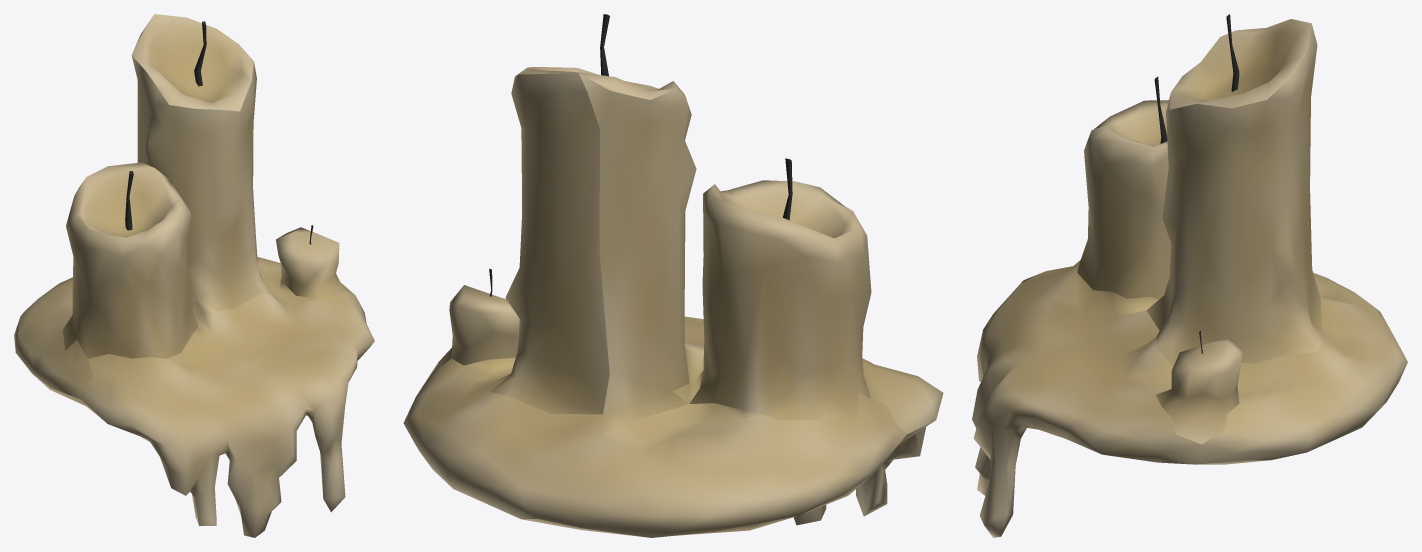
Rendered from SM_Candle_00.fbx.
3 views of the same model, side by side, from view 1: azimuth 30°, elevation 25°; view 2: azimuth 150°, elevation 25°; view 3: azimuth 270°, elevation 25° (orthographic). The views are drawn at different scales.
Visible parts, largest first — view 1: SM_Candle_01; view 2: SM_Candle_01; view 3: SM_Candle_01.
Boxes of the visible parts, bbox=[...] form: SM_Candle_01: bbox=[14, 14, 374, 537]; SM_Candle_01: bbox=[403, 14, 943, 537]; SM_Candle_01: bbox=[972, 14, 1407, 537].
Bounding box in the file's own units: 20.17 × 26.62 × 20.43.
Materials: 1 (1 with a texture image).
